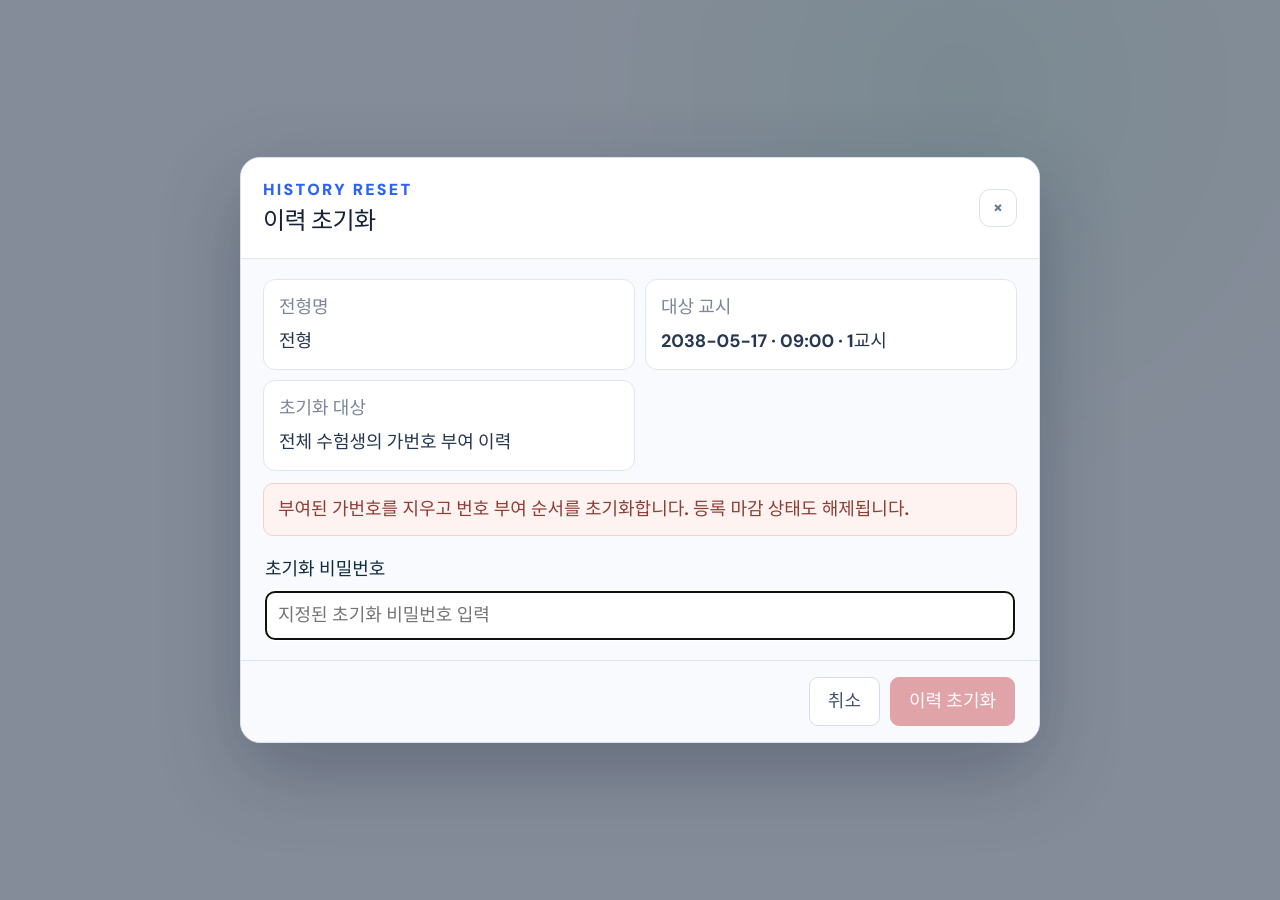
keeps the dialog open after rejection and clears the password without clearing history locally
Type "wrong" into the password field labelled "초기화 비밀번호" at (640, 615), box [265, 591, 1015, 640]
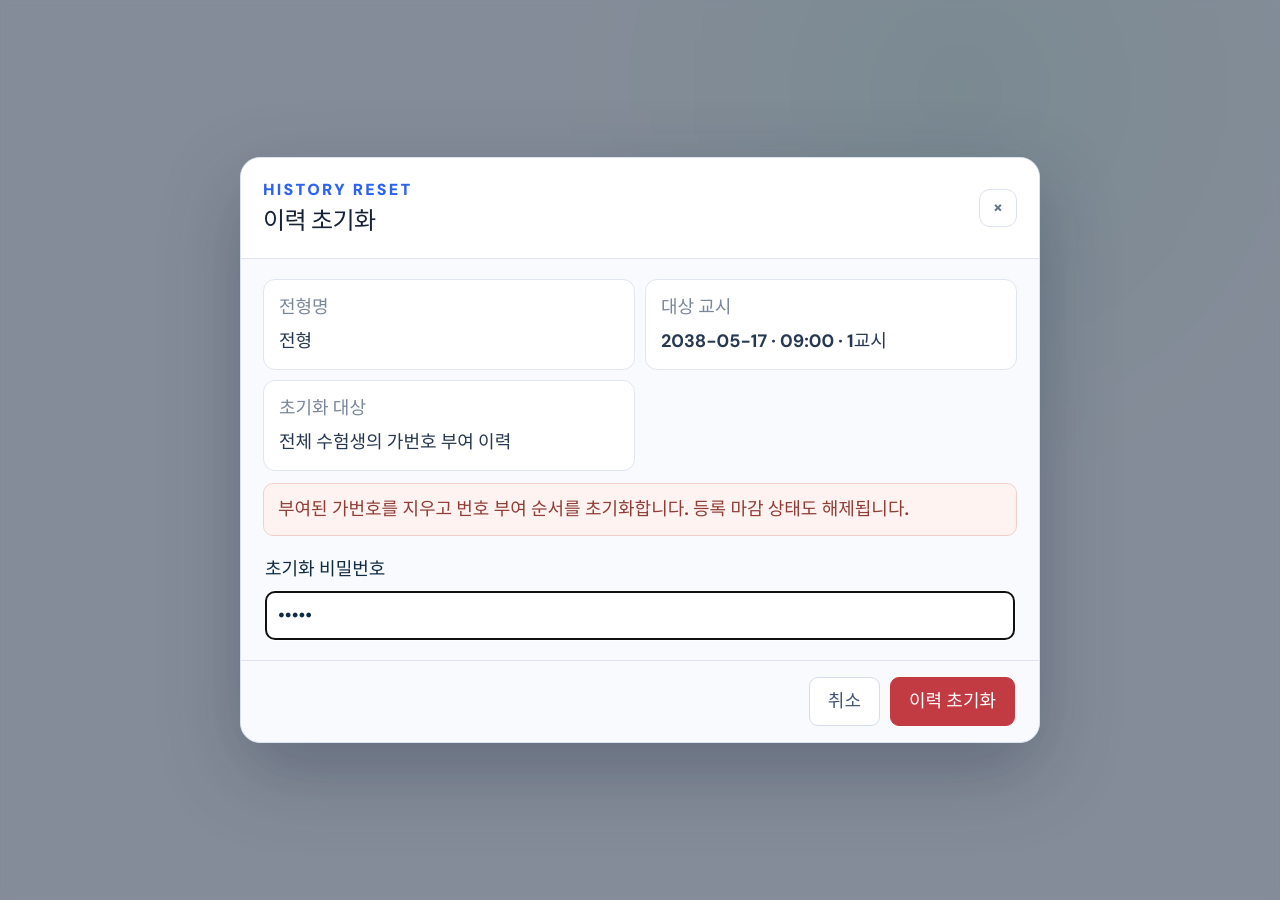
Click the button "이력 초기화" at (952, 701), box [890, 677, 1015, 726]
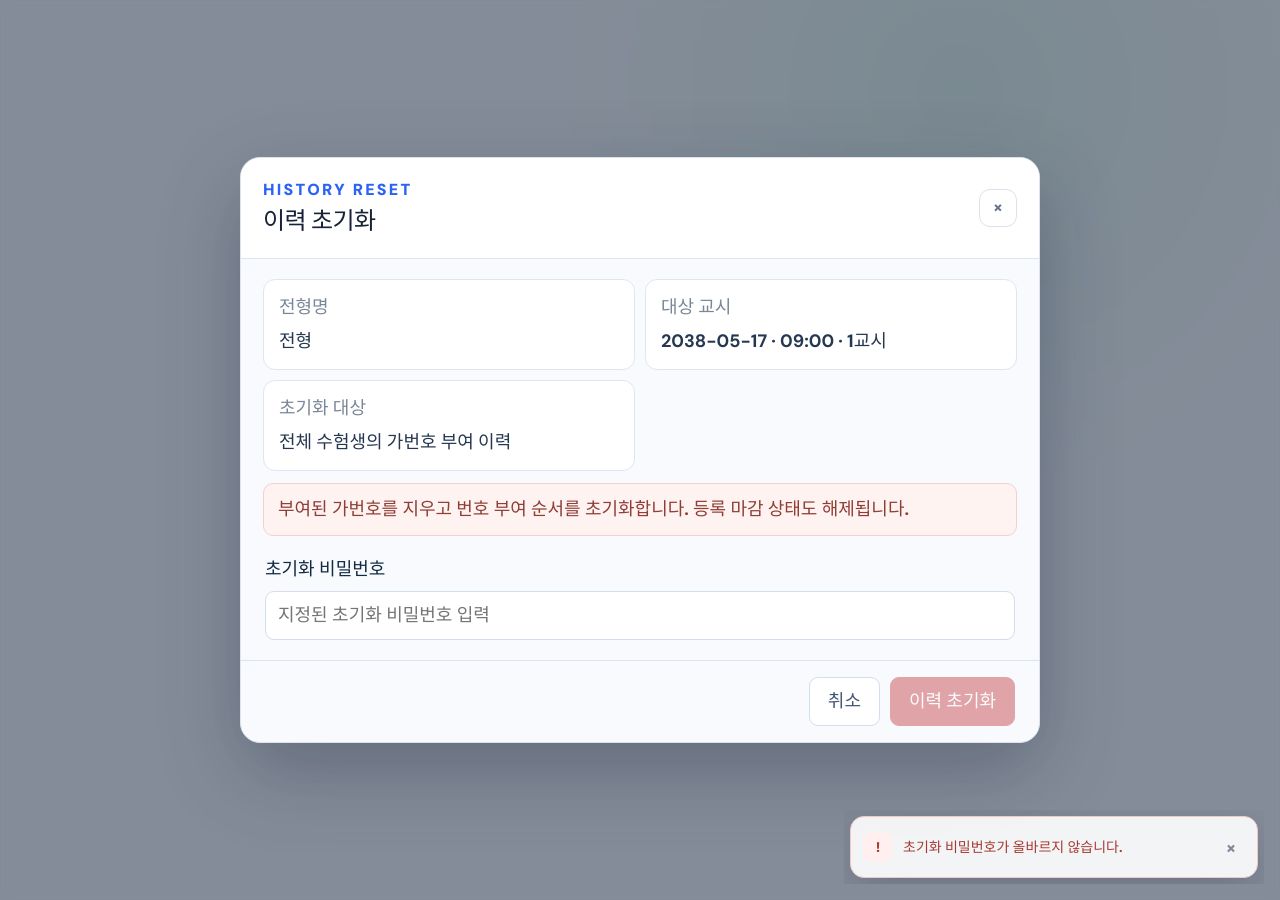
Check: the message shows "올바르지", box [903, 838, 1122, 856]
Check: the password field labelled "초기화 비밀번호" is empty, box [265, 591, 1015, 640]
